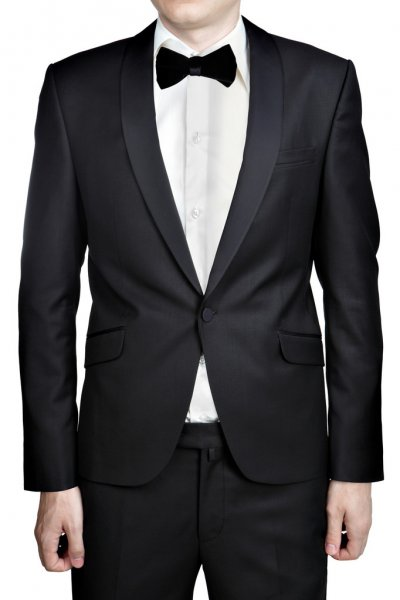bow: (154, 40, 238, 94)
